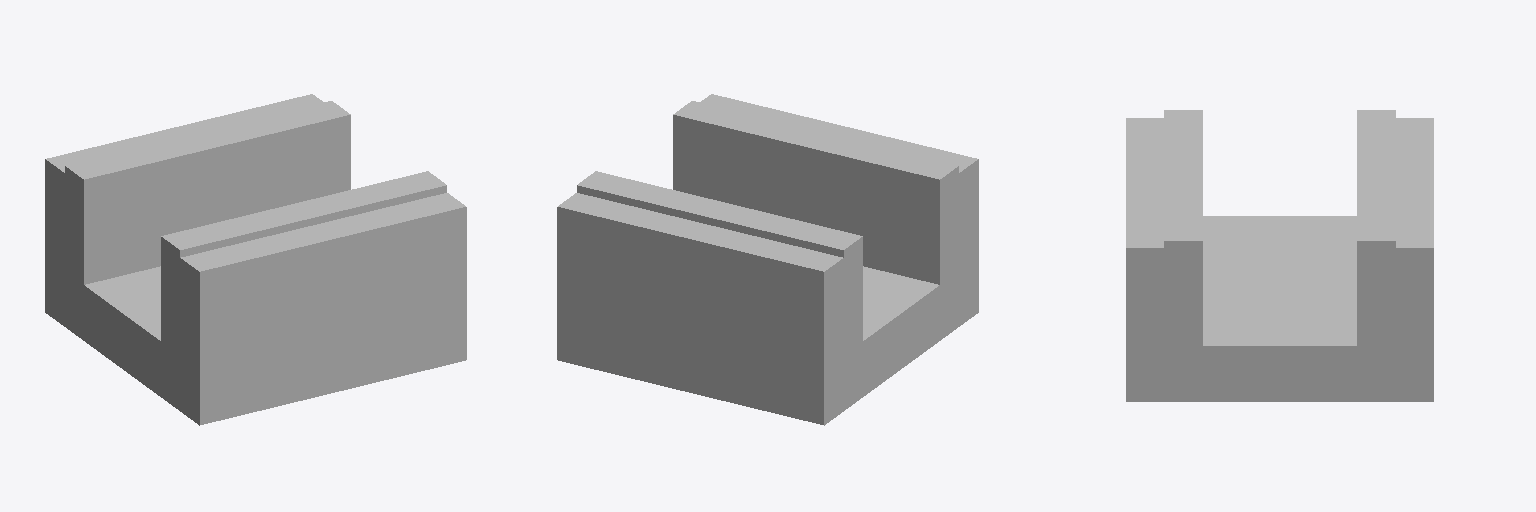
File: tile049.obj
The picture shows the model from 3 angles: view 1: azimuth 30°, elevation 25°; view 2: azimuth 150°, elevation 25°; view 3: azimuth 270°, elevation 25°; orthographic projection.
Visible parts, largest first — view 1: tile049; view 2: tile049; view 3: tile049.
Boxes of the visible parts, x1,y1,x2,y2 form: tile049: [45, 94, 466, 425]; tile049: [557, 94, 978, 425]; tile049: [1126, 110, 1433, 401].
Size of the model in its own units: 1 by 0.5767 by 1.